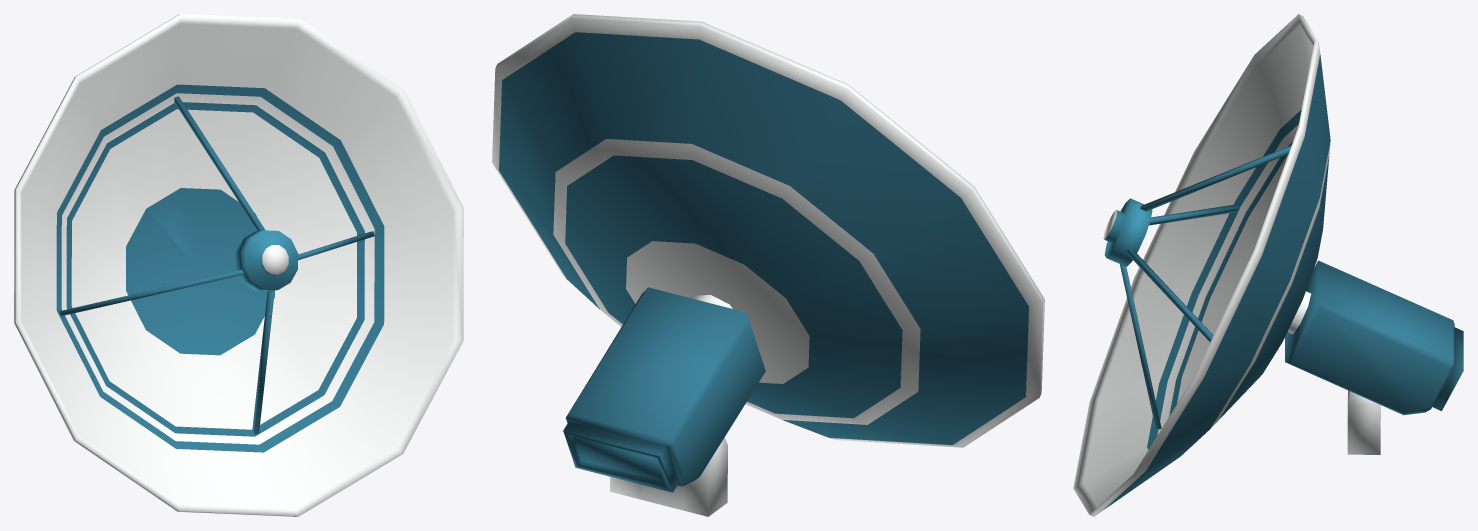
File: SatelliteTop.fbx
The picture shows the model from 3 angles, left to right: view 1: azimuth 30°, elevation 25°; view 2: azimuth 150°, elevation 25°; view 3: azimuth 270°, elevation 25°; orthographic projection. The views are drawn at different scales.
Parts seen in each view (by area): view 1: polySurface5; view 2: polySurface5; view 3: polySurface5.
Part boxes in pixels (x1,y1,x2,y2): polySurface5: (14, 14, 463, 516); polySurface5: (492, 14, 1044, 516); polySurface5: (1073, 14, 1463, 516).
Size of the model in its own units: 558 by 503 by 397.
